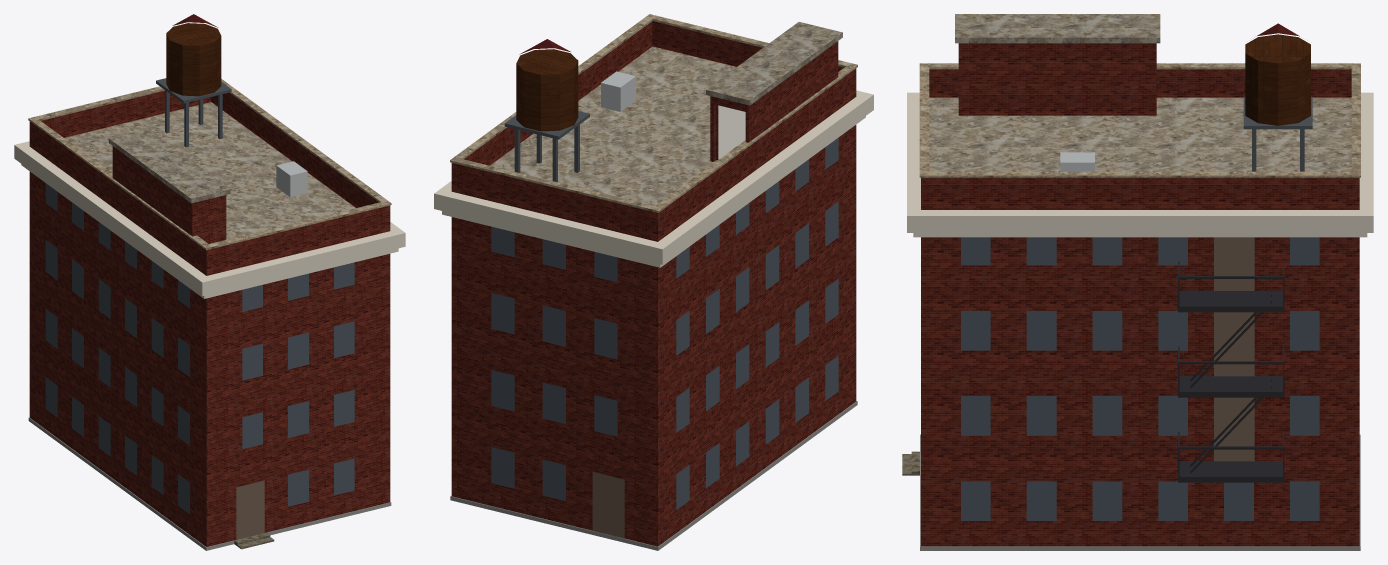
The model's file is mh-tenement.towns-v1.lod1.glb.
3 renders of one model, left to right at view 1: azimuth 30°, elevation 25°; view 2: azimuth 150°, elevation 25°; view 3: azimuth 270°, elevation 25°, orthographic. The views are drawn at different scales.
Visible parts, largest first — view 1: mh-tenement; view 2: mh-tenement; view 3: mh-tenement.
Part boxes in pixels (box(x1,y1,x2,y2)): mh-tenement: box(14, 14, 405, 550); mh-tenement: box(434, 14, 873, 550); mh-tenement: box(902, 14, 1373, 550).
Bounding box in the file's own units: 10.05 × 17.45 × 15.05.
Materials: 4 (3 with a texture image).
